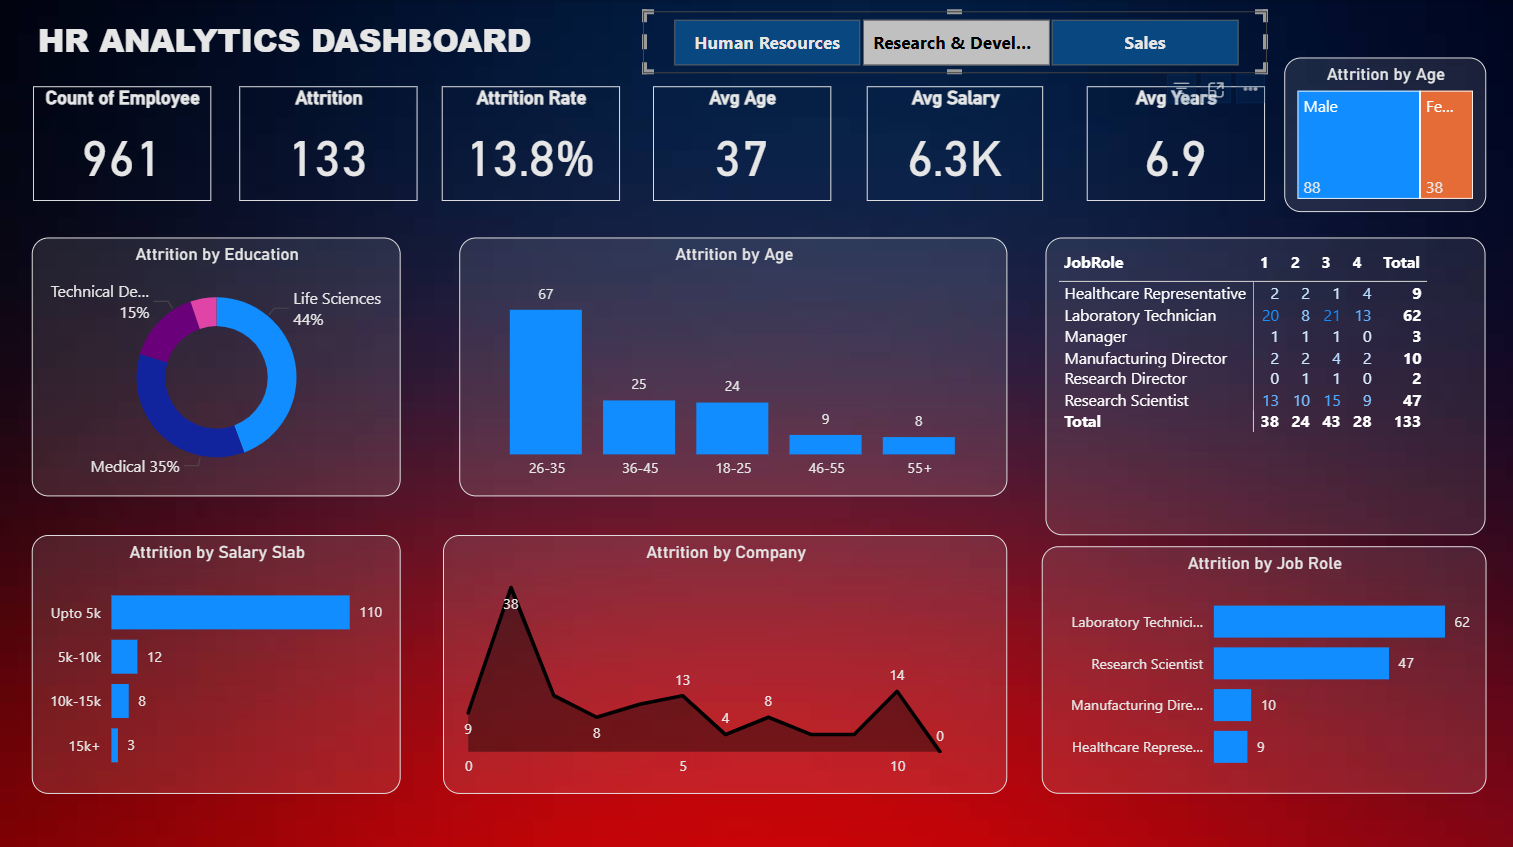

Layout of this report page (visuals, bound fields, positions):
{"tool":"powerbi","page":{"name":"Page 1","canvas":[1280,720],"ordinal":0},"visuals":[{"type":"card","title":"Count of Employee","fields":{"Values":["CountNonNull(HR_Analytics.EmpID)"]},"box":[29.1,73.3,150,96.5],"z":0},{"type":"card","title":"Avg Age","fields":{"Values":["Avg(HR_Analytics.Age)"]},"box":[552.3,73.3,150,96.5],"z":1000},{"type":"card","title":"Attrition Rate","fields":{"Values":["HR_Analytics.AttritionRate"]},"box":[374.4,73.3,150,96.5],"z":2000},{"type":"card","title":"Attrition","fields":{"Values":["Sum(HR_Analytics.AttritionCount)"]},"box":[203.5,73.3,150,96.5],"z":3000},{"type":"card","title":"Avg Years","fields":{"Values":["Avg(HR_Analytics.YearsAtCompany)"]},"box":[918.6,73.3,150,96.5],"z":4000},{"type":"card","title":"Avg Salary","fields":{"Values":["Avg(HR_Analytics.MonthlyIncome)"]},"box":[732.6,73.3,148.8,96.5],"z":5000},{"type":"donutChart","title":"Attrition by Education","fields":{"Category":["HR_Analytics.EducationField"],"Y":["Sum(HR_Analytics.AttritionCount)"]},"box":[28.8,200,311.2,218.8],"z":6000},{"type":"columnChart","title":"Attrition by Age","fields":{"Category":["HR_Analytics.AgeGroup"],"Y":["Sum(HR_Analytics.AttritionCount)"]},"box":[388.8,200,462.5,218.8],"z":7000},{"type":"pivotTable","fields":{"Rows":["HR_Analytics.JobRole"],"Columns":["HR_Analytics.JobSatisfaction"],"Values":["Sum(HR_Analytics.AttritionCount)"]},"box":[883.8,200,371.2,251.2],"z":8000},{"type":"barChart","title":"Attrition by Salary Slab","fields":{"Category":["HR_Analytics.SalarySlab"],"Y":["Sum(HR_Analytics.AttritionCount)"]},"box":[28.8,451.2,311.2,218.8],"z":9000},{"type":"barChart","title":"Attrition by Job Role","fields":{"Category":["HR_Analytics.JobRole"],"Y":["Sum(HR_Analytics.AttritionCount)"]},"box":[880,461.2,375,208.8],"z":10000},{"type":"areaChart","title":"Attrition by Company","fields":{"Category":["HR_Analytics.YearsAtCompany"],"Y":["Sum(HR_Analytics.AttritionCount)"]},"box":[375,451.2,476.2,218.8],"z":11000},{"type":"treemap","title":"Attrition by Age","fields":{"Group":["HR_Analytics.Gender"],"Values":["Sum(HR_Analytics.AttritionCount)"]},"box":[1085,48.8,170,130],"z":12000},{"type":"slicer","fields":{"Values":["HR_Analytics.Department"]},"box":[543.8,10,526.2,52.5],"z":13000},{"type":"textbox","box":[28.8,10,496.2,52.5],"z":14000}]}

Visuals, with their boxes in screenshot pixels (x1, y1, x2, y2), scaled from the page's 1280x720 canvas onto the 1513x847 screenshot:
"Count of Employee" card: <bbox>34, 86, 212, 200</bbox>
"Avg Age" card: <bbox>653, 86, 830, 200</bbox>
"Attrition Rate" card: <bbox>443, 86, 620, 200</bbox>
"Attrition" card: <bbox>241, 86, 418, 200</bbox>
"Avg Years" card: <bbox>1086, 86, 1263, 200</bbox>
"Avg Salary" card: <bbox>866, 86, 1042, 200</bbox>
"Attrition by Education" donutChart: <bbox>34, 235, 402, 493</bbox>
"Attrition by Age" columnChart: <bbox>460, 235, 1006, 493</bbox>
pivotTable - HR_Analytics.JobRole x HR_Analytics.JobSatisfaction: <bbox>1045, 235, 1483, 531</bbox>
"Attrition by Salary Slab" barChart: <bbox>34, 531, 402, 788</bbox>
"Attrition by Job Role" barChart: <bbox>1040, 543, 1483, 788</bbox>
"Attrition by Company" areaChart: <bbox>443, 531, 1006, 788</bbox>
"Attrition by Age" treemap: <bbox>1283, 57, 1483, 210</bbox>
slicer - HR_Analytics.Department: <bbox>643, 12, 1265, 74</bbox>
textbox: <bbox>34, 12, 621, 74</bbox>
